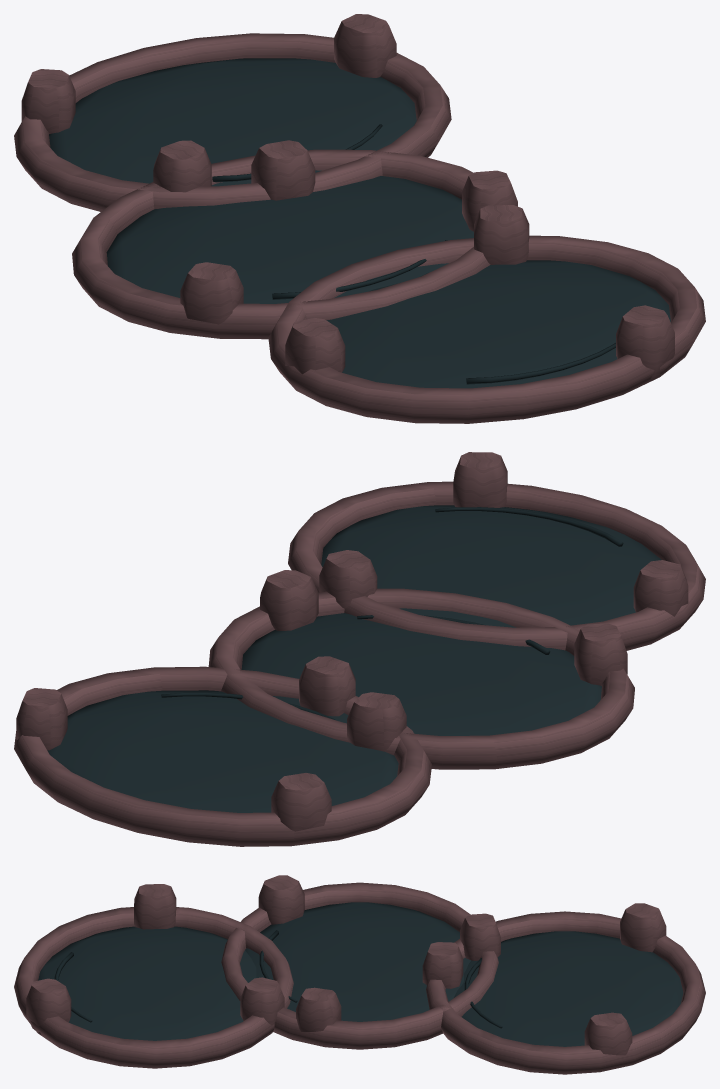
File: PilotTar_3.fbx
The picture shows the model from 3 angles, top to bottom: view 1: azimuth 30°, elevation 25°; view 2: azimuth 150°, elevation 25°; view 3: azimuth 270°, elevation 25°; orthographic projection. The views are drawn at different scales.
Parts seen in each view (by area): view 1: PilotTar_3__Geometry, PilotTar_3__Water; view 2: PilotTar_3__Geometry, PilotTar_3__Water; view 3: PilotTar_3__Water, PilotTar_3__Geometry.
Boxes of the visible parts, bbox=[...] form: PilotTar_3__Geometry: bbox=[14, 14, 705, 423]; PilotTar_3__Water: bbox=[49, 58, 670, 388]; PilotTar_3__Geometry: bbox=[14, 452, 705, 846]; PilotTar_3__Water: bbox=[47, 505, 661, 812]; PilotTar_3__Water: bbox=[38, 902, 683, 1046]; PilotTar_3__Geometry: bbox=[14, 875, 705, 1074].
Bounding box in the file's own units: 1.77 × 0.208 × 2.94.
